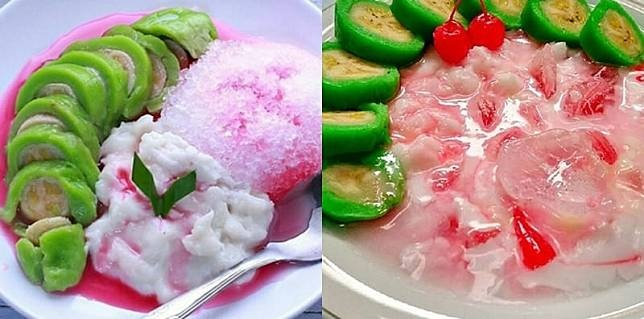es_pisang_ijo: (324, 1, 644, 303), (4, 8, 319, 302)
